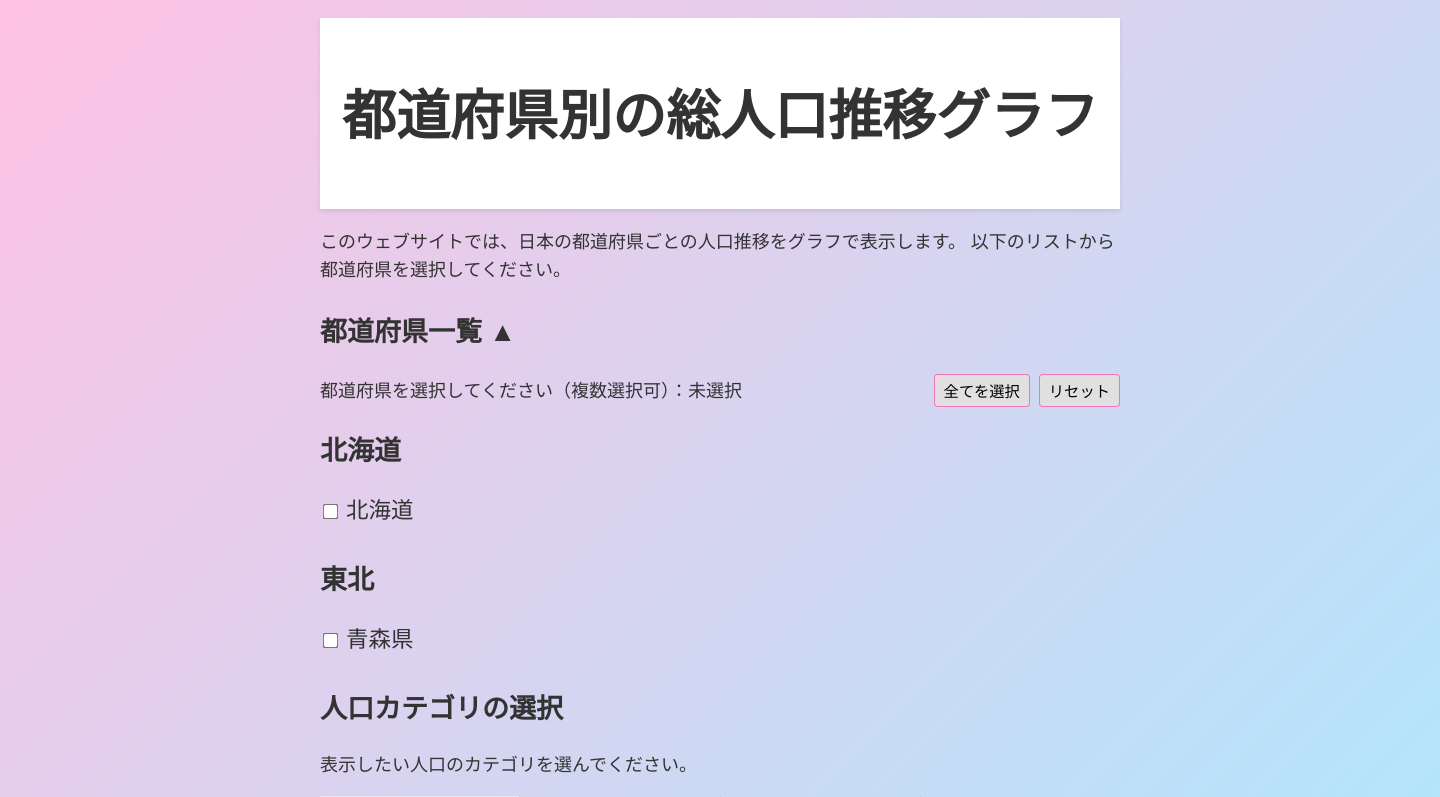
Scenario: App コンポーネントのテスト › 全てを選択ボタンをクリックすると、全ての都道府県が選択される
Click the button "全てを選択". click: (982, 390)
box: [934,374,1030,407]
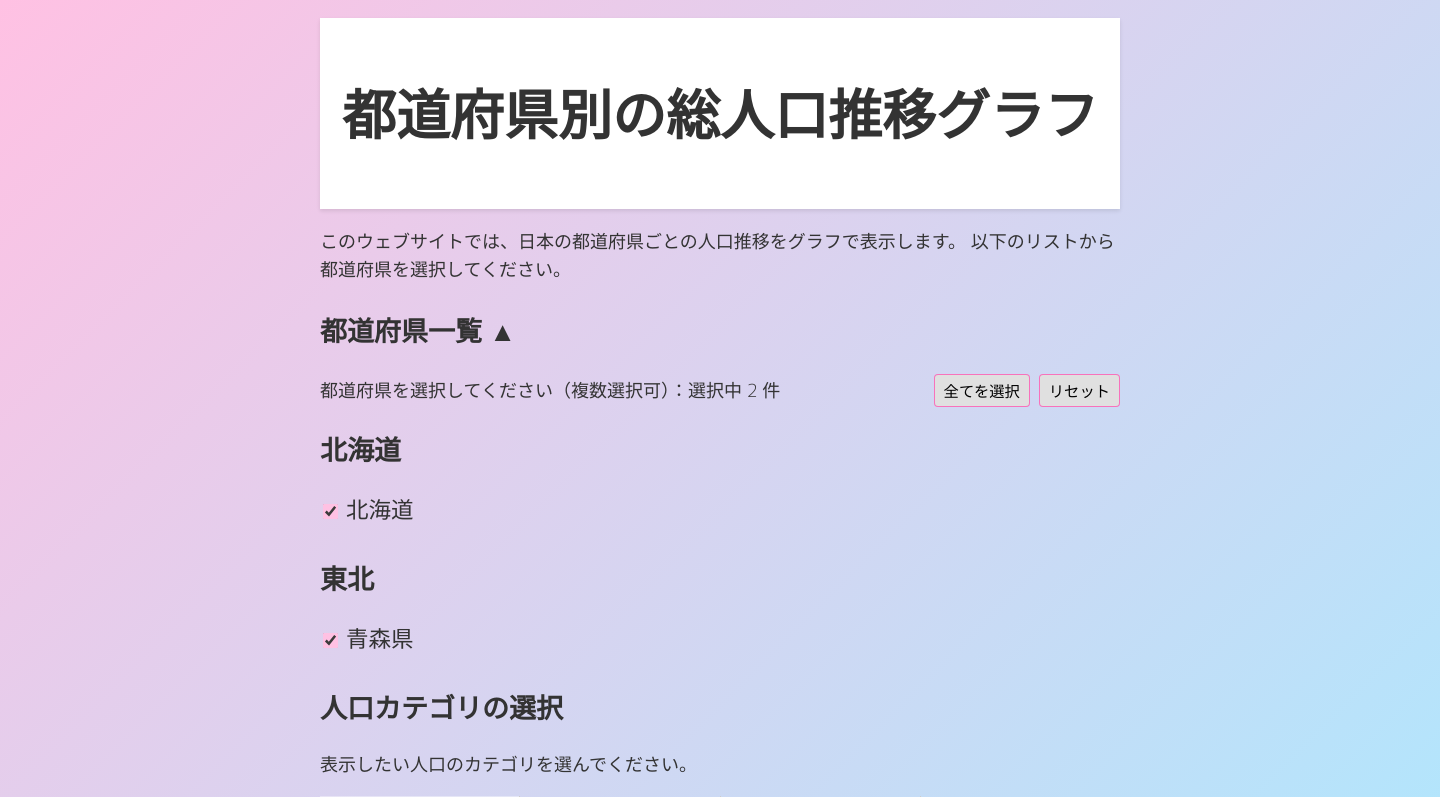
Check: the checkbox labelled "北海道" is checked, box [323,504,338,520]
Check: the checkbox labelled "青森県" is checked, box [323,633,338,648]
